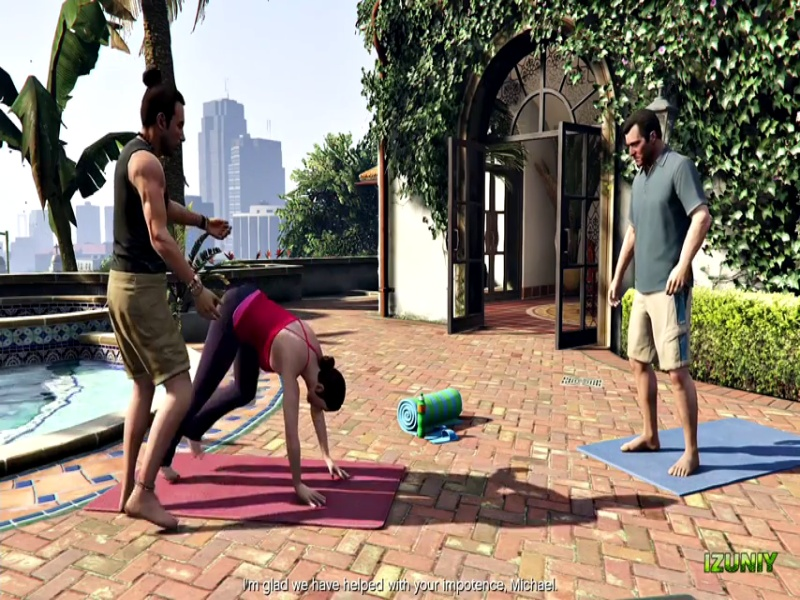human: (610, 111, 712, 461)
